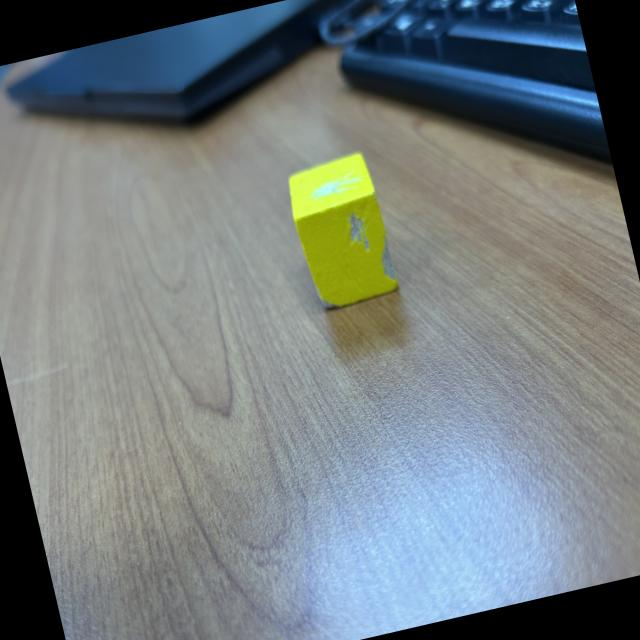broken: (282, 150, 402, 313)
